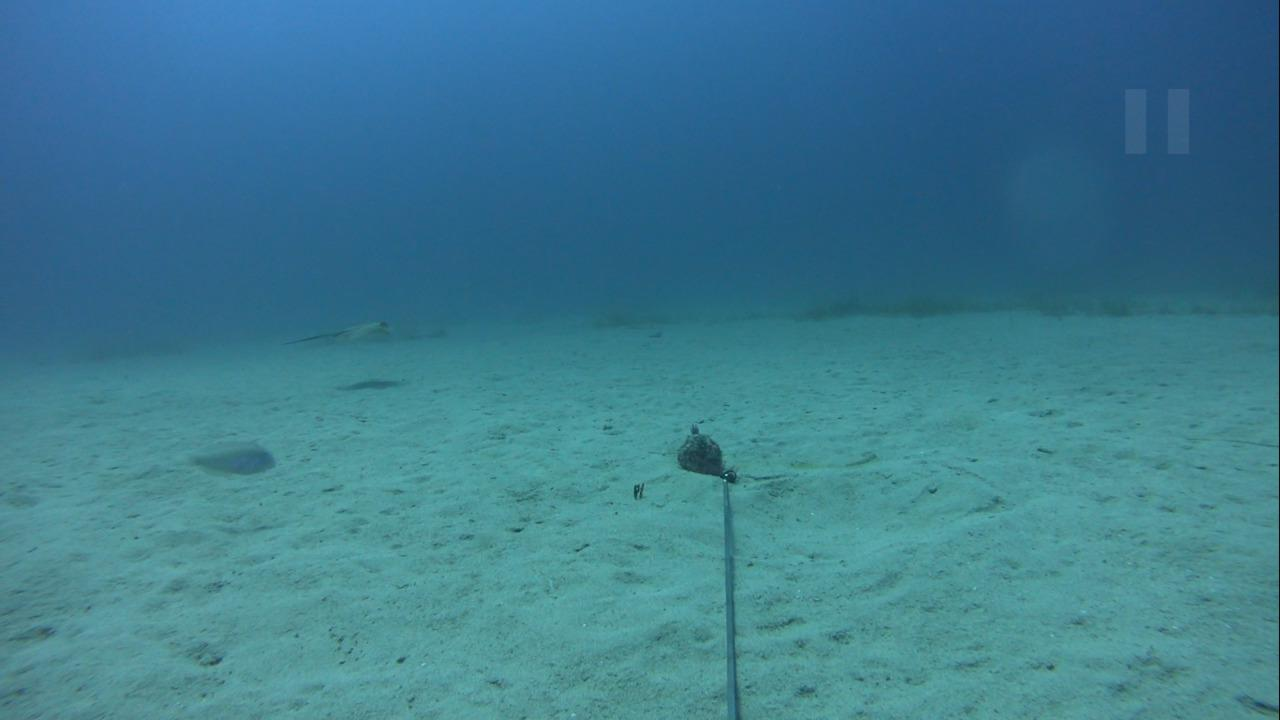myliobatis: (275, 311, 403, 358)
raor: (175, 438, 277, 482)
